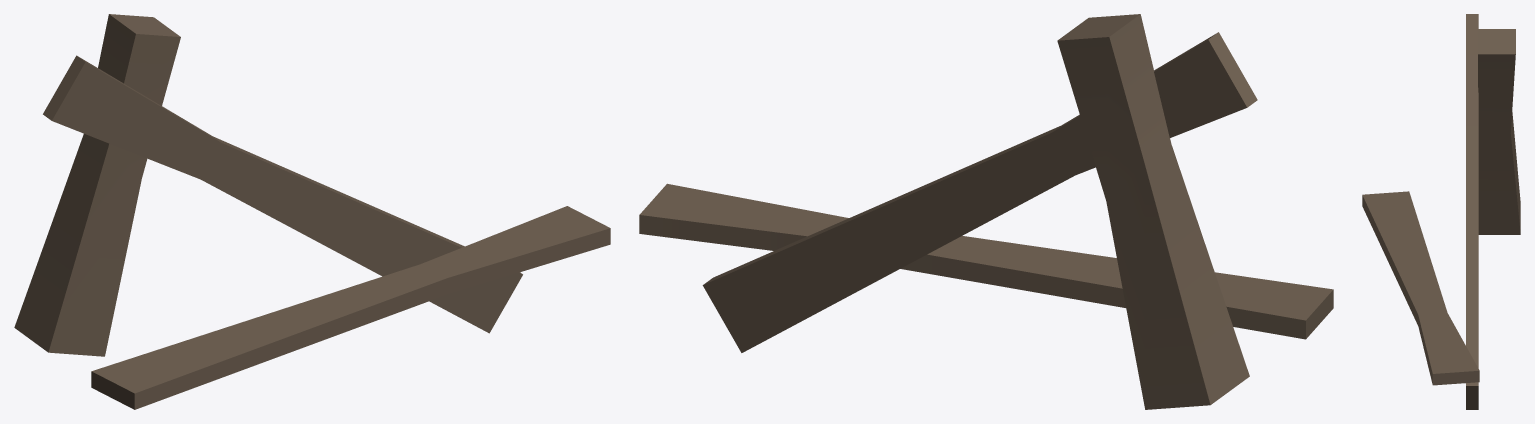
The model's file is FenceBroken2_Mesh.fbx.
3 views of the same model, side by side, from view 1: azimuth 30°, elevation 25°; view 2: azimuth 150°, elevation 25°; view 3: azimuth 270°, elevation 25° (orthographic). The views are drawn at different scales.
Visible parts, largest first — view 1: FenceBroken2_Mesh; view 2: FenceBroken2_Mesh; view 3: FenceBroken2_Mesh.
Part boxes in pixels (box(x1,y1,x2,y2)): FenceBroken2_Mesh: box(14, 14, 610, 409); FenceBroken2_Mesh: box(639, 14, 1333, 409); FenceBroken2_Mesh: box(1362, 14, 1520, 409).
Size of the model in its own units: 182 by 122 by 66.56.
